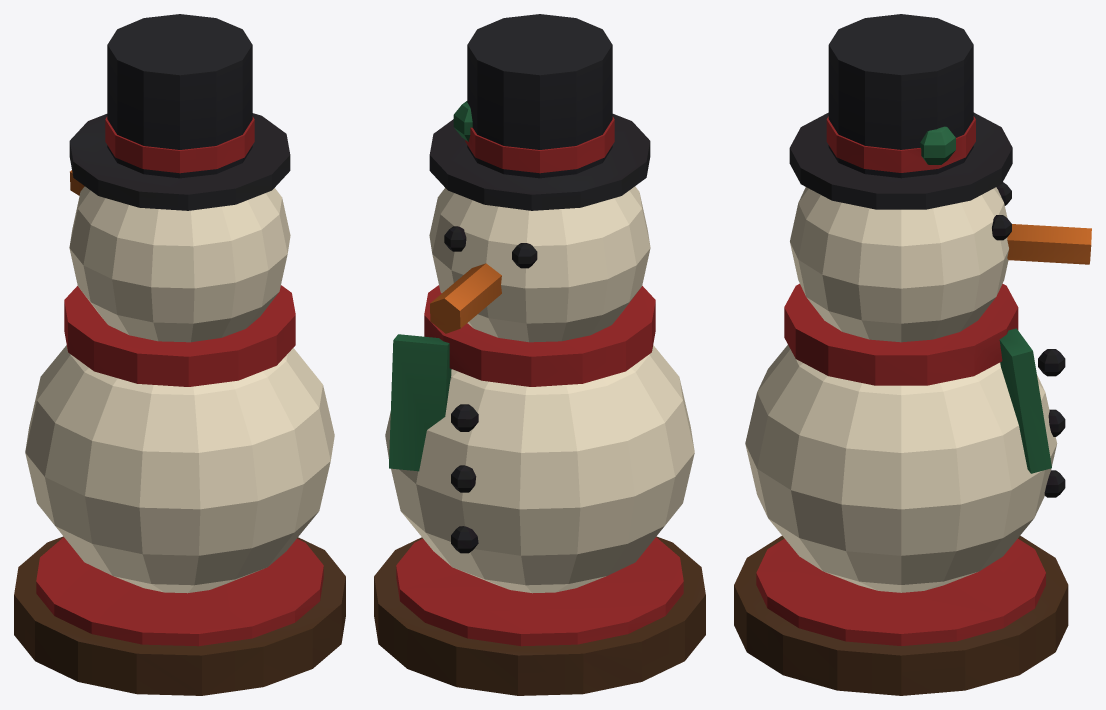
File: xmas_snowman_lamp.glb
3 views of the same model, side by side, from view 1: azimuth 30°, elevation 25°; view 2: azimuth 150°, elevation 25°; view 3: azimuth 270°, elevation 25° (orthographic).
Visible parts, largest first — view 1: xmas_snowman_lamp; view 2: xmas_snowman_lamp; view 3: xmas_snowman_lamp.
Boxes of the visible parts, x1=… form: xmas_snowman_lamp: x1=14, y1=14, x2=345, y2=695; xmas_snowman_lamp: x1=374, y1=14, x2=705, y2=695; xmas_snowman_lamp: x1=734, y1=14, x2=1091, y2=695.
Bounding box in the file's own units: 0.3 × 0.575 × 0.3211.
